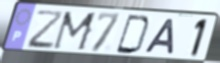1: (190, 18, 210, 60)
7: (91, 11, 123, 55)
A: (142, 18, 176, 56)
D: (114, 14, 153, 56)
M: (50, 10, 99, 53)
Z: (26, 9, 66, 50)
